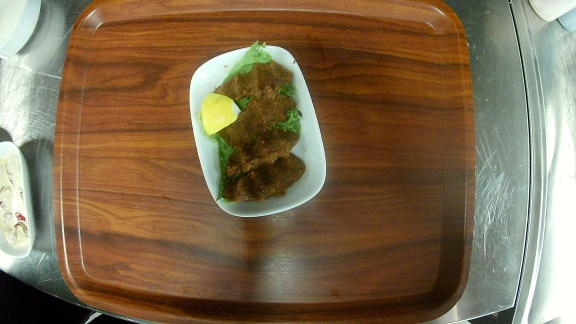cigkofte: (189, 42, 328, 218)
